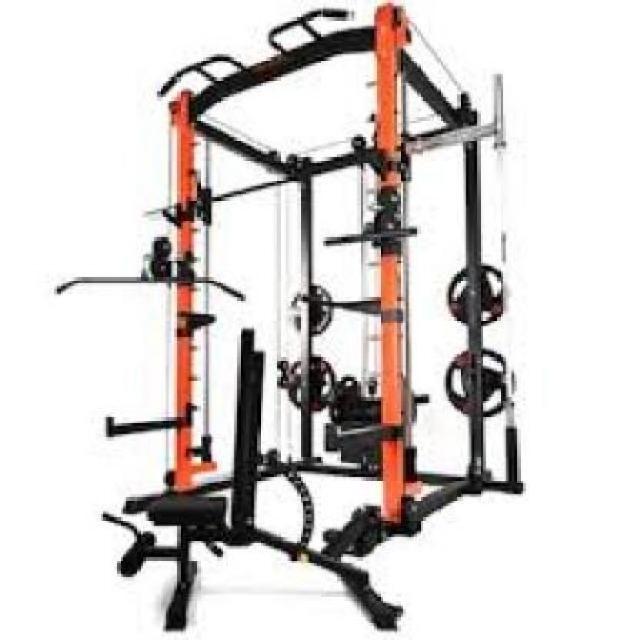smith machine: (157, 5, 526, 632)
